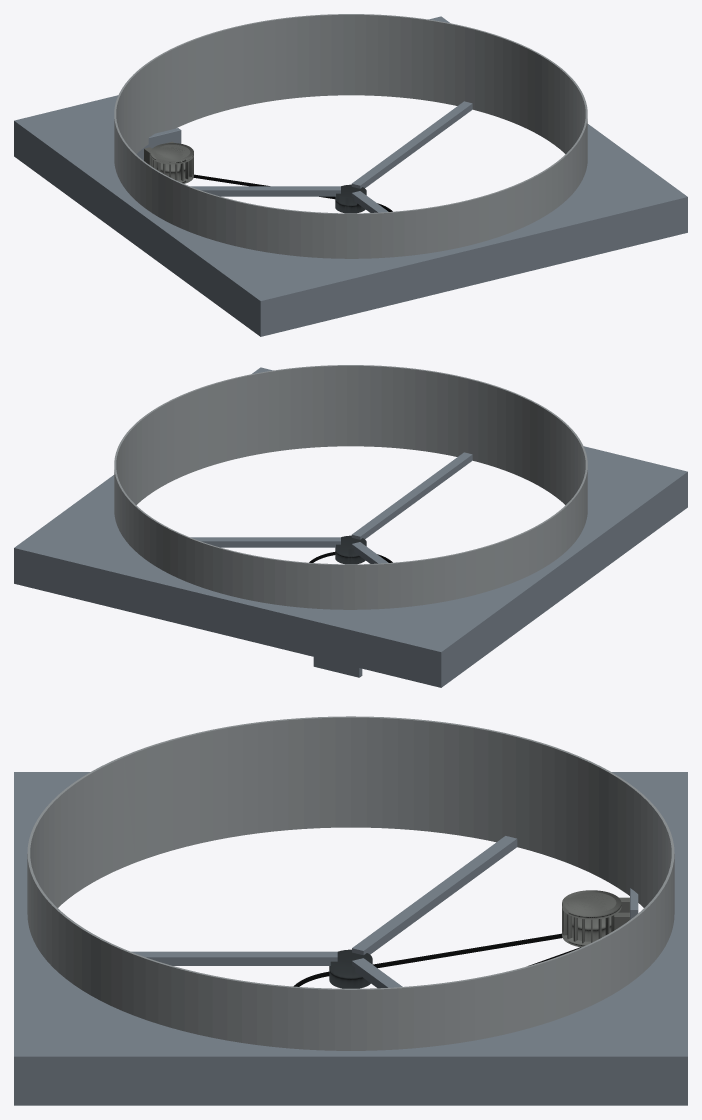
The model's file is fixed_root.obj.
3 views of the same model, one above another, from view 1: azimuth 30°, elevation 25°; view 2: azimuth 150°, elevation 25°; view 3: azimuth 270°, elevation 25° (orthographic). The views are drawn at different scales.
Visible parts, largest first — view 1: thin_circular_duct, square_aperture_frame, fixed_support_330, fixed_support_210, motor_end_bell.001, central_bearing_housing, motor_core, motor_mounting_shelf; view 2: thin_circular_duct, square_aperture_frame, fixed_support_90, fixed_support_330, central_bearing_housing, motor_mounting_shelf; view 3: thin_circular_duct, square_aperture_frame, fixed_support_210, fixed_support_90, continuous_drive_belt, motor_core, motor_end_bell.001, central_bearing_housing, fixed_support_330.
Part boxes in pixels (bbox=[...]): thin_circular_duct: bbox=[114, 14, 587, 258]; square_aperture_frame: bbox=[14, 16, 687, 336]; fixed_support_330: bbox=[351, 101, 472, 188]; fixed_support_210: bbox=[190, 186, 340, 196]; motor_end_bell.001: bbox=[150, 143, 193, 164]; central_bearing_housing: bbox=[335, 184, 366, 213]; motor_core: bbox=[154, 144, 190, 180]; motor_mounting_shelf: bbox=[136, 128, 181, 160]; thin_circular_duct: bbox=[114, 365, 587, 609]; square_aperture_frame: bbox=[14, 367, 687, 687]; fixed_support_90: bbox=[351, 452, 472, 539]; fixed_support_330: bbox=[190, 537, 340, 547]; central_bearing_housing: bbox=[335, 535, 366, 564]; motor_mounting_shelf: bbox=[313, 657, 362, 677]; thin_circular_duct: bbox=[27, 716, 674, 1050]; square_aperture_frame: bbox=[14, 772, 687, 1105]; fixed_support_210: bbox=[352, 836, 517, 955]; fixed_support_90: bbox=[131, 951, 337, 965]; continuous_drive_belt: bbox=[293, 933, 580, 986]; motor_core: bbox=[568, 892, 616, 941]; motor_end_bell.001: bbox=[562, 890, 621, 919]; central_bearing_housing: bbox=[329, 949, 372, 988]; fixed_support_330: bbox=[352, 958, 402, 988].
Bounding box in the file's own units: 1 × 0.249 × 1.
